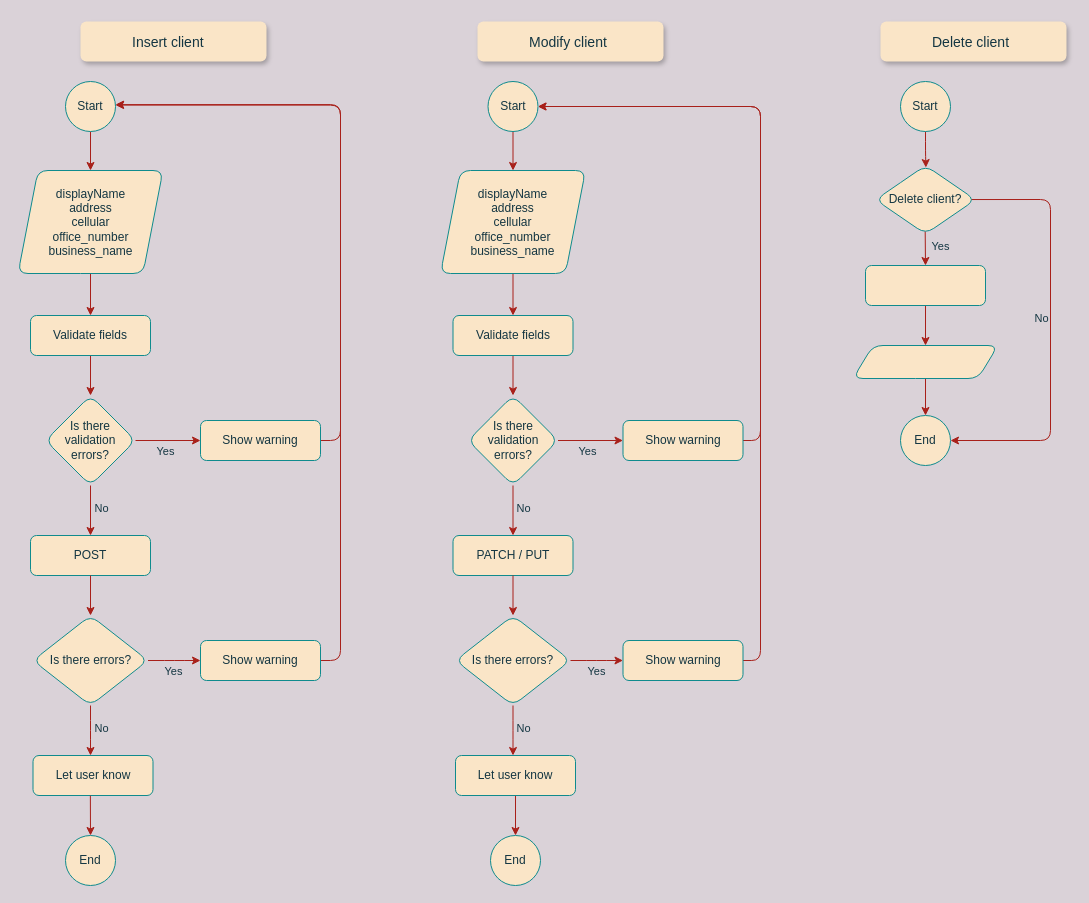
This 1089x903 diagram has some shape labels left out. Here are the shapes that lost their labels. From the top down, the centre of each, then its label:
(x=925, y=285): DELETE
(x=925, y=361): Client deleted
